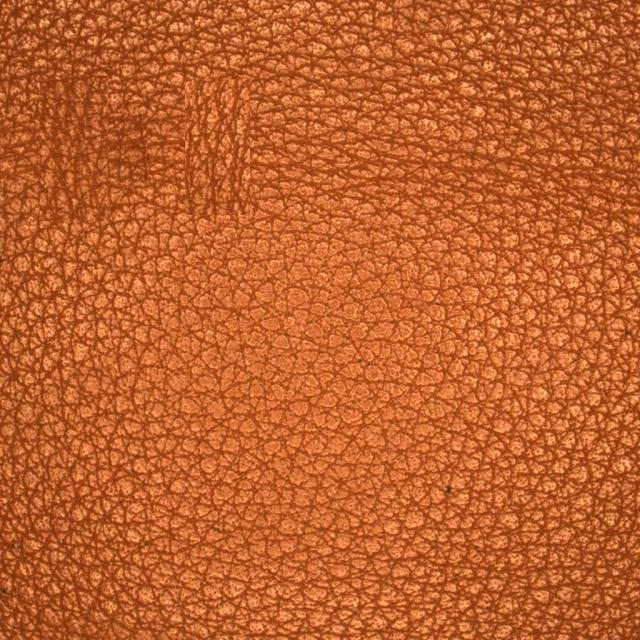Healed Injury: (19, 29, 160, 246), (166, 40, 292, 244)
